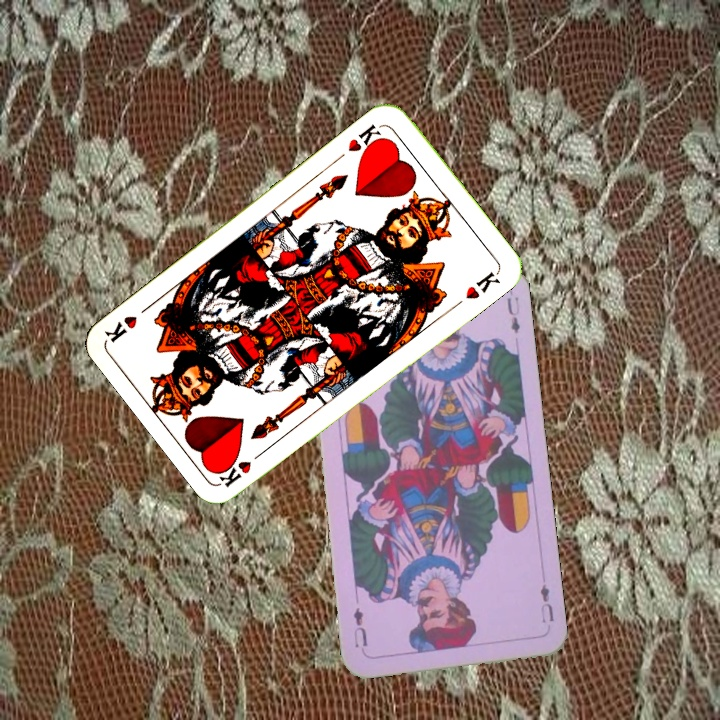EU: (536, 580, 557, 626)
HK: (215, 445, 269, 490), (343, 120, 387, 159)
